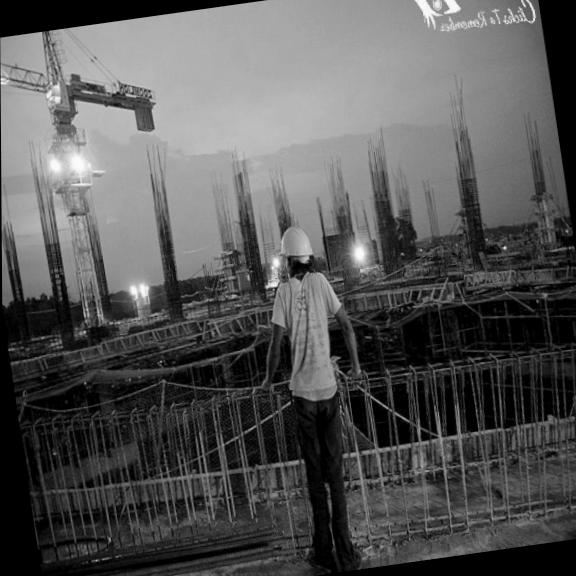no_safety_vest: (261, 269, 355, 398)
